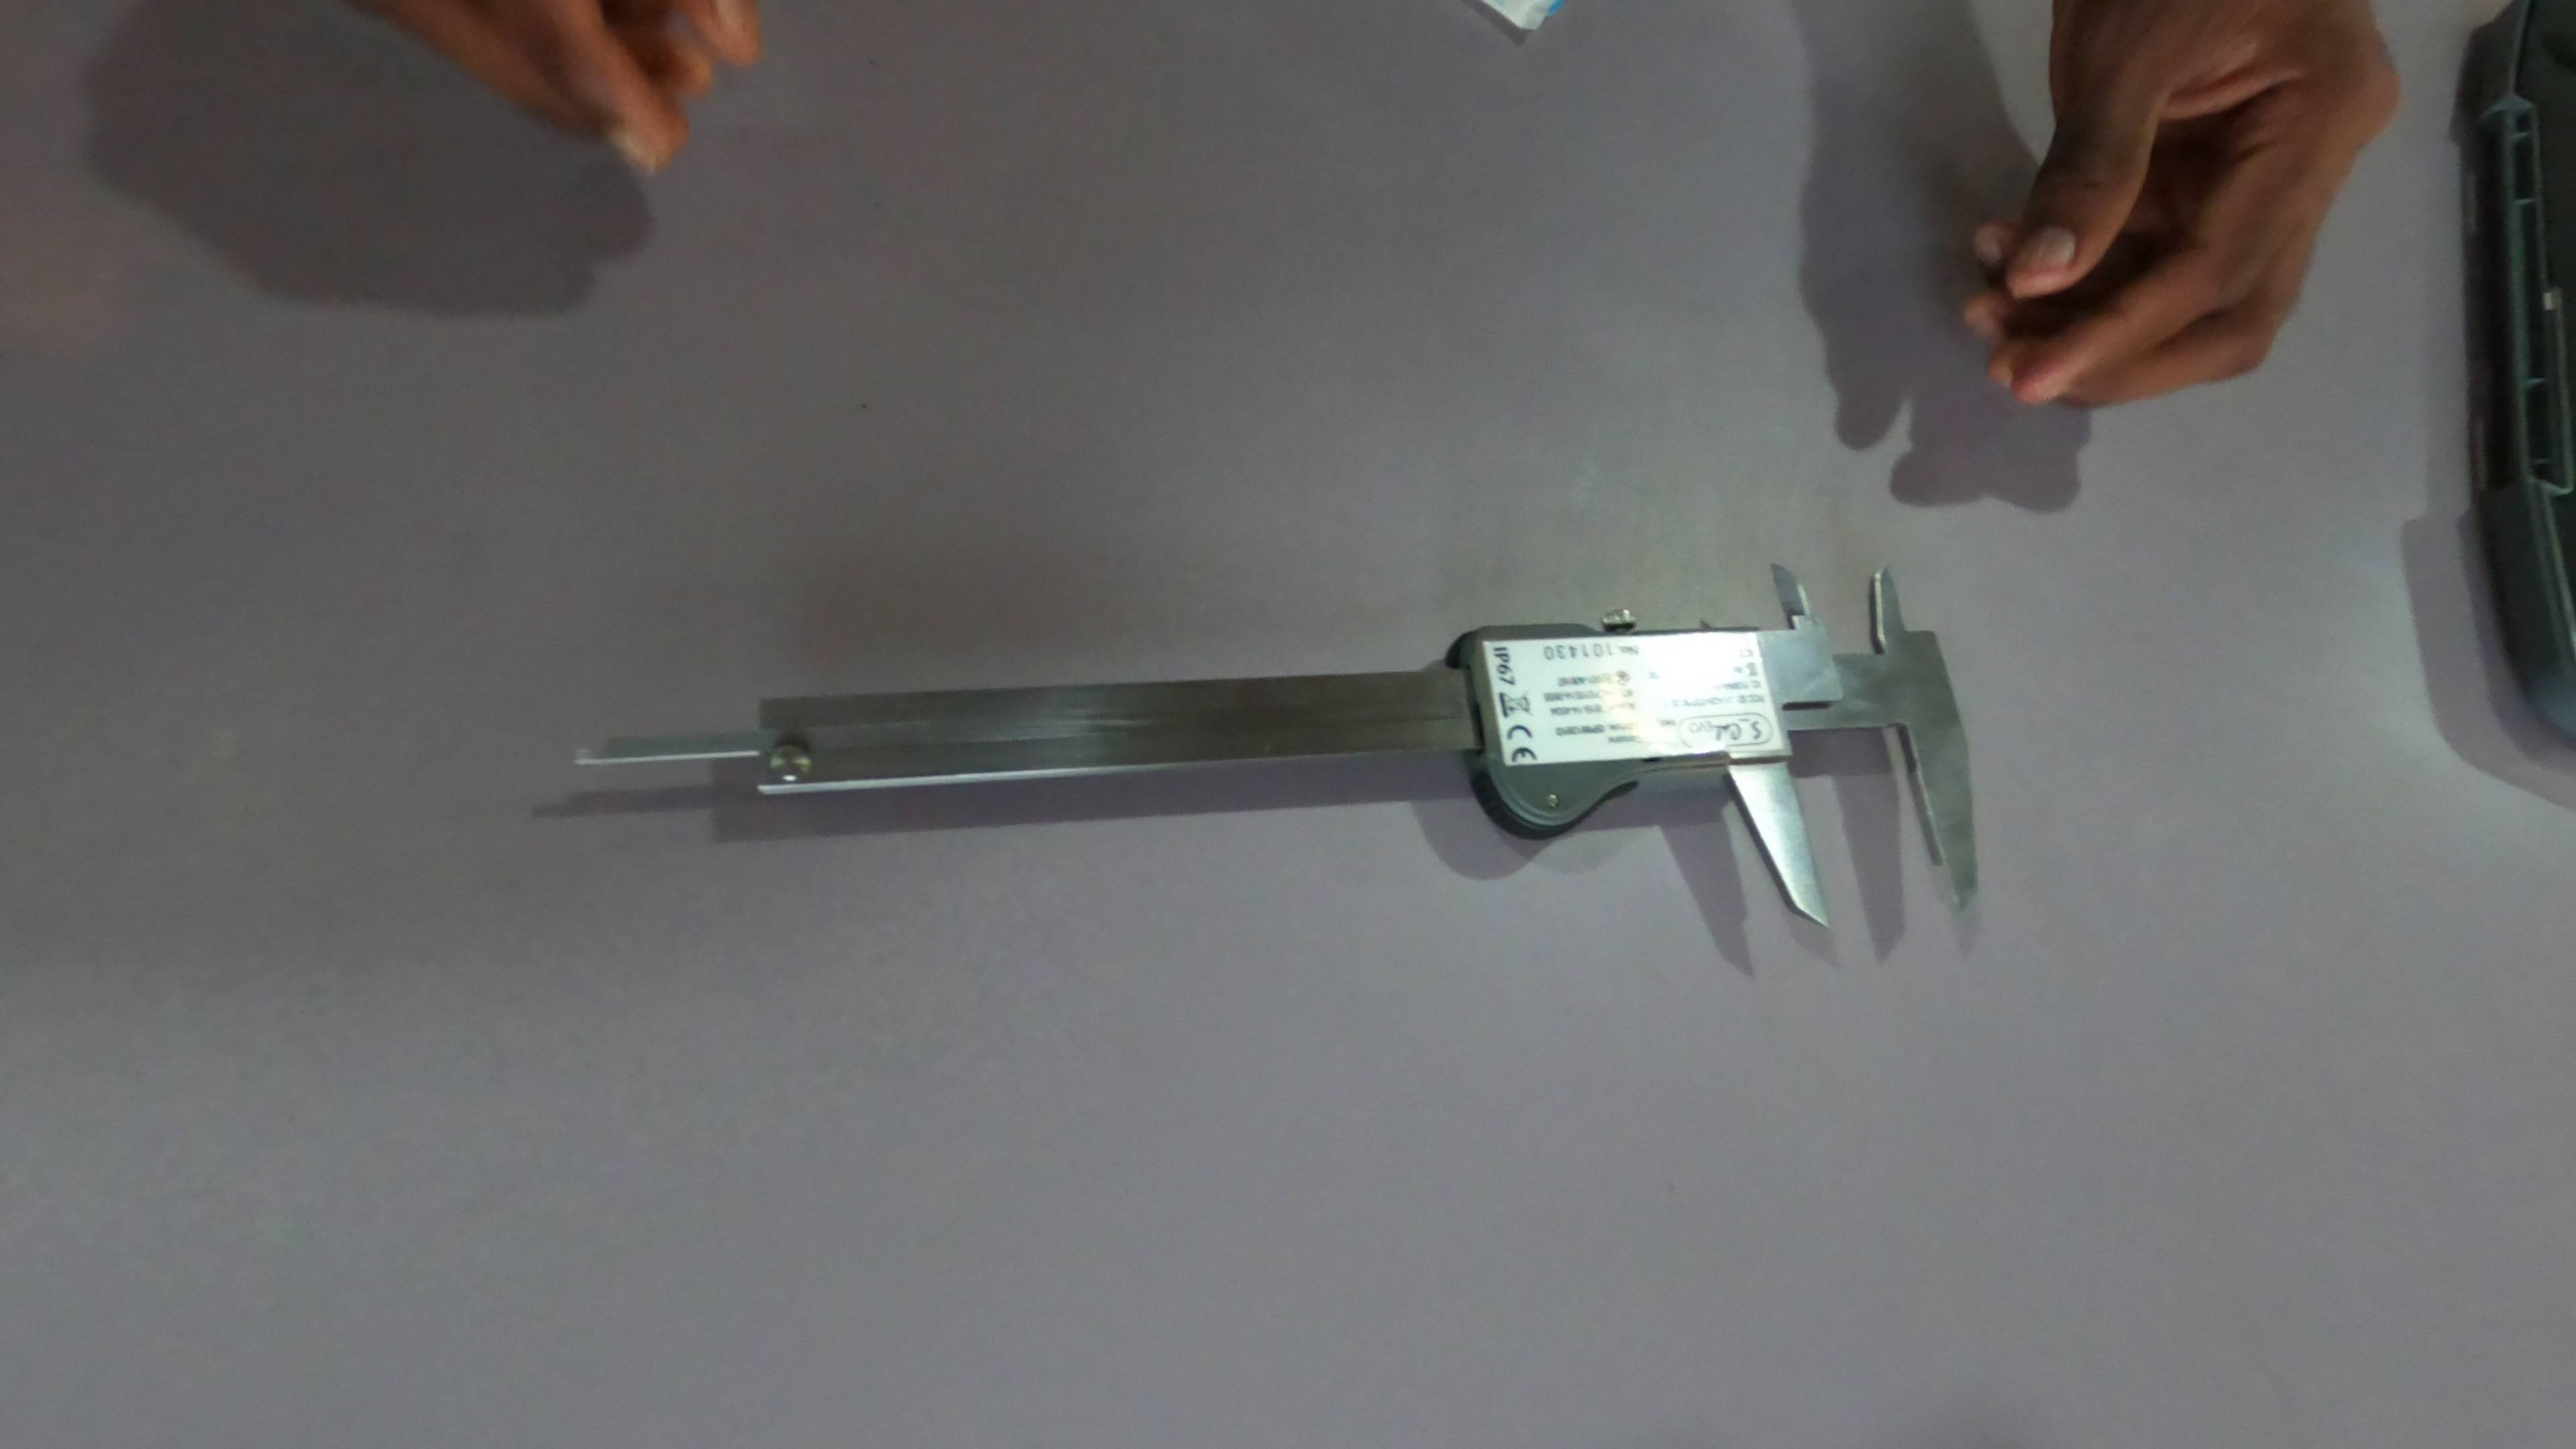vernier_caliper: (571, 547, 1974, 936)
